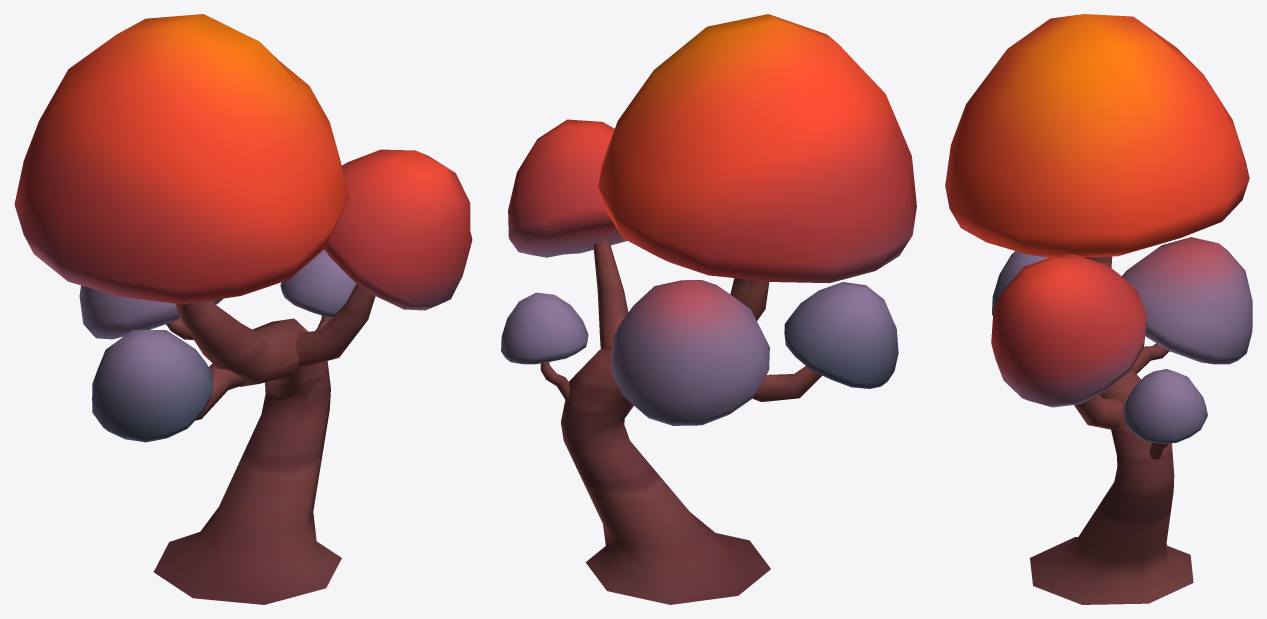
The model's file is arboles7.fbx.
The picture shows the model from 3 angles, left to right: view 1: azimuth 30°, elevation 25°; view 2: azimuth 150°, elevation 25°; view 3: azimuth 270°, elevation 25°; orthographic projection. The views are drawn at different scales.
Visible parts, largest first — view 1: Tree.019_Base_Material_0.001; view 2: Tree.019_Base_Material_0.001; view 3: Tree.019_Base_Material_0.001.
Part boxes in pixels (x1,y1,x2,y2): Tree.019_Base_Material_0.001: (14, 14, 472, 604); Tree.019_Base_Material_0.001: (501, 14, 916, 604); Tree.019_Base_Material_0.001: (945, 14, 1252, 604).
Size of the model in its own units: 485 by 652 by 351.
